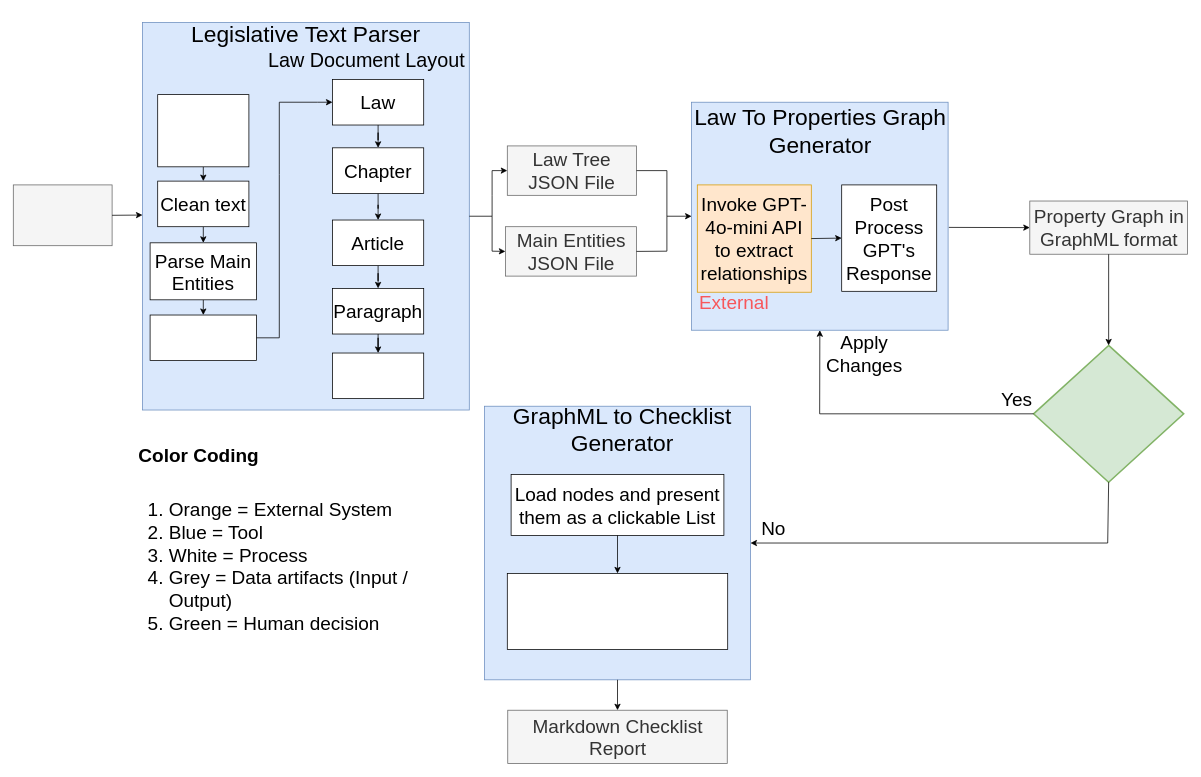
The diagram is 1201 pixels wide and 777 high, and some of its shapes have lost their labels. The shapes that lost their labels are listed below. From the top down, each one's centre as x and y in pixels, then its label:
At [203,130]: "Convert PDF to TXT".
At [62,215]: "PDF Document".
At [202,337]: "Build Law Documet".
At [378,375]: "Point".
At [1108,413]: "Analyst requested node deletion?".
At [617,611]: "Upon click, display a checklist with all relationships".
